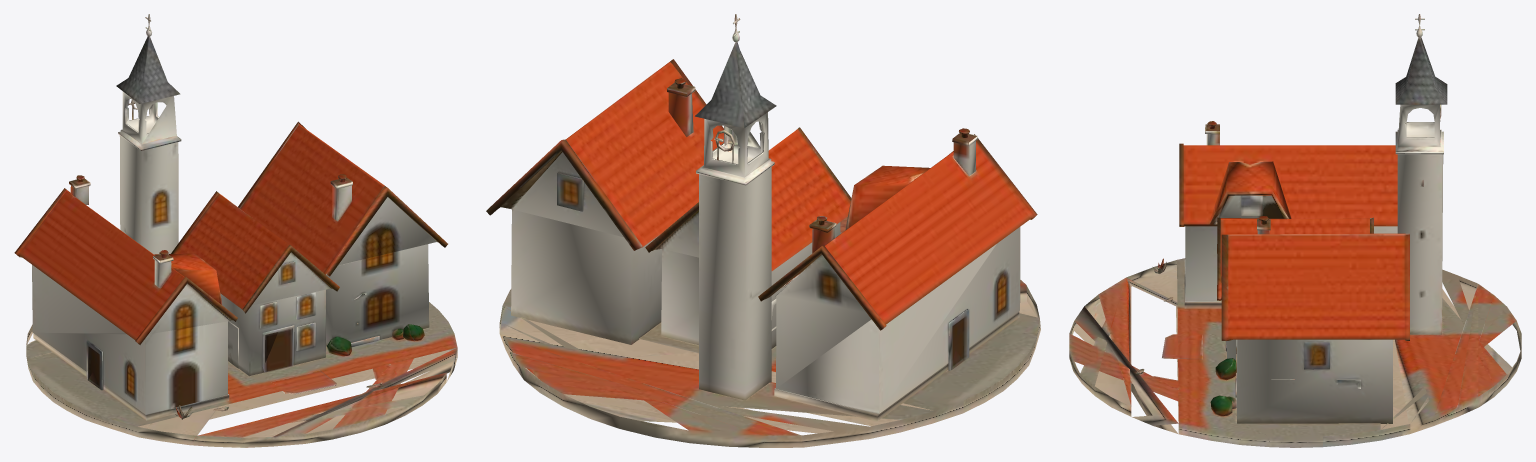
File: village.glb
3 views of the same model, side by side, from view 1: azimuth 30°, elevation 25°; view 2: azimuth 150°, elevation 25°; view 3: azimuth 270°, elevation 25° (orthographic). The views are drawn at different scales.
Size of the model in its own units: 0.9575 by 0.751 by 0.9565.
Materials: 1 (1 with a texture image).
